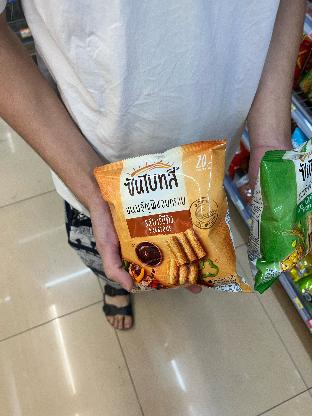Plastic Packaging: (88, 130, 252, 306), (245, 133, 312, 305)
